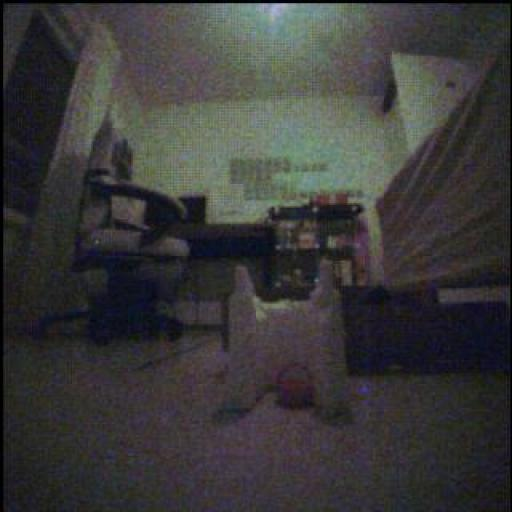basket: (278, 364, 315, 409)
